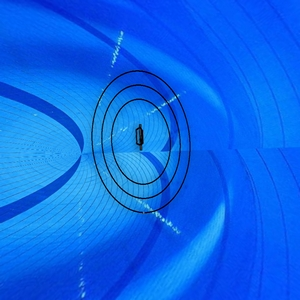circle: (88, 64, 192, 221)
submarine: (131, 118, 149, 158)
